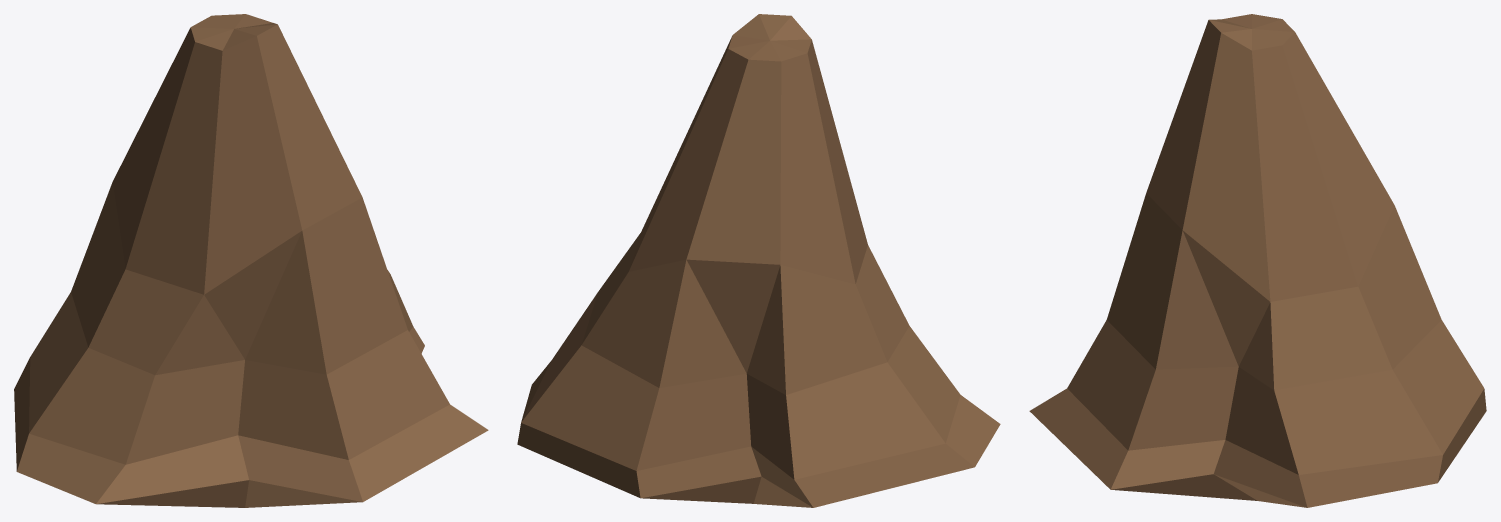
The model's file is SM_Tree_Pine_Base_01.glb.
3 views of the same model, side by side, from view 1: azimuth 30°, elevation 25°; view 2: azimuth 150°, elevation 25°; view 3: azimuth 270°, elevation 25° (orthographic). The views are drawn at different scales.
Parts seen in each view (by area): view 1: SM_Tree_Pine_Base_01; view 2: SM_Tree_Pine_Base_01; view 3: SM_Tree_Pine_Base_01.
Boxes of the visible parts, box(x1,y1,x2,y2) form: SM_Tree_Pine_Base_01: box(14, 14, 488, 507); SM_Tree_Pine_Base_01: box(517, 14, 1000, 507); SM_Tree_Pine_Base_01: box(1029, 14, 1486, 507).
Size of the model in its own units: 1.23 by 1.33 by 1.16.
1 material, 1 textured.
